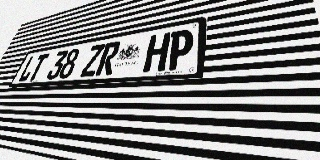3: (45, 50, 69, 80)
8: (57, 48, 82, 79)
H: (142, 32, 171, 72)
L: (17, 55, 39, 82)
P: (165, 28, 194, 71)
R: (95, 41, 122, 76)
T: (27, 53, 49, 81)
Z: (80, 44, 106, 77)
